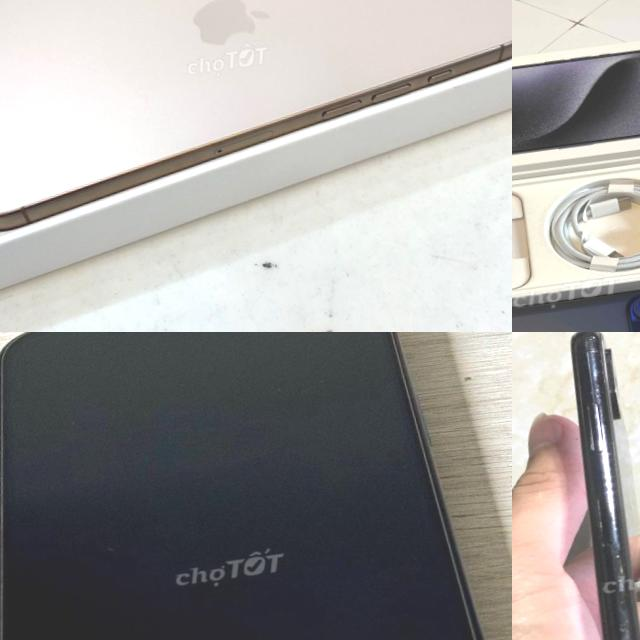gen_12_13: (0, 332, 512, 640)
gen_15: (512, 232, 640, 332)
gen_16: (0, 0, 512, 240)
gen_x_xs: (571, 332, 640, 640)
scratch: (582, 338, 608, 416), (600, 540, 628, 574)
